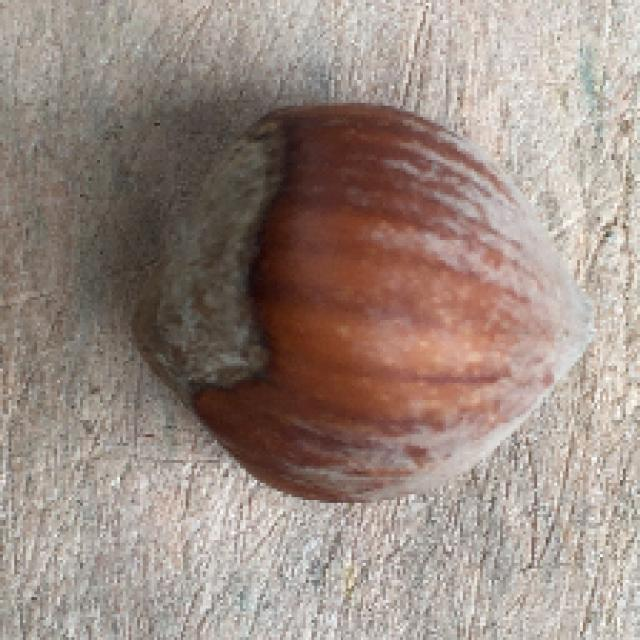qualityHazelnut: (127, 96, 603, 512)
